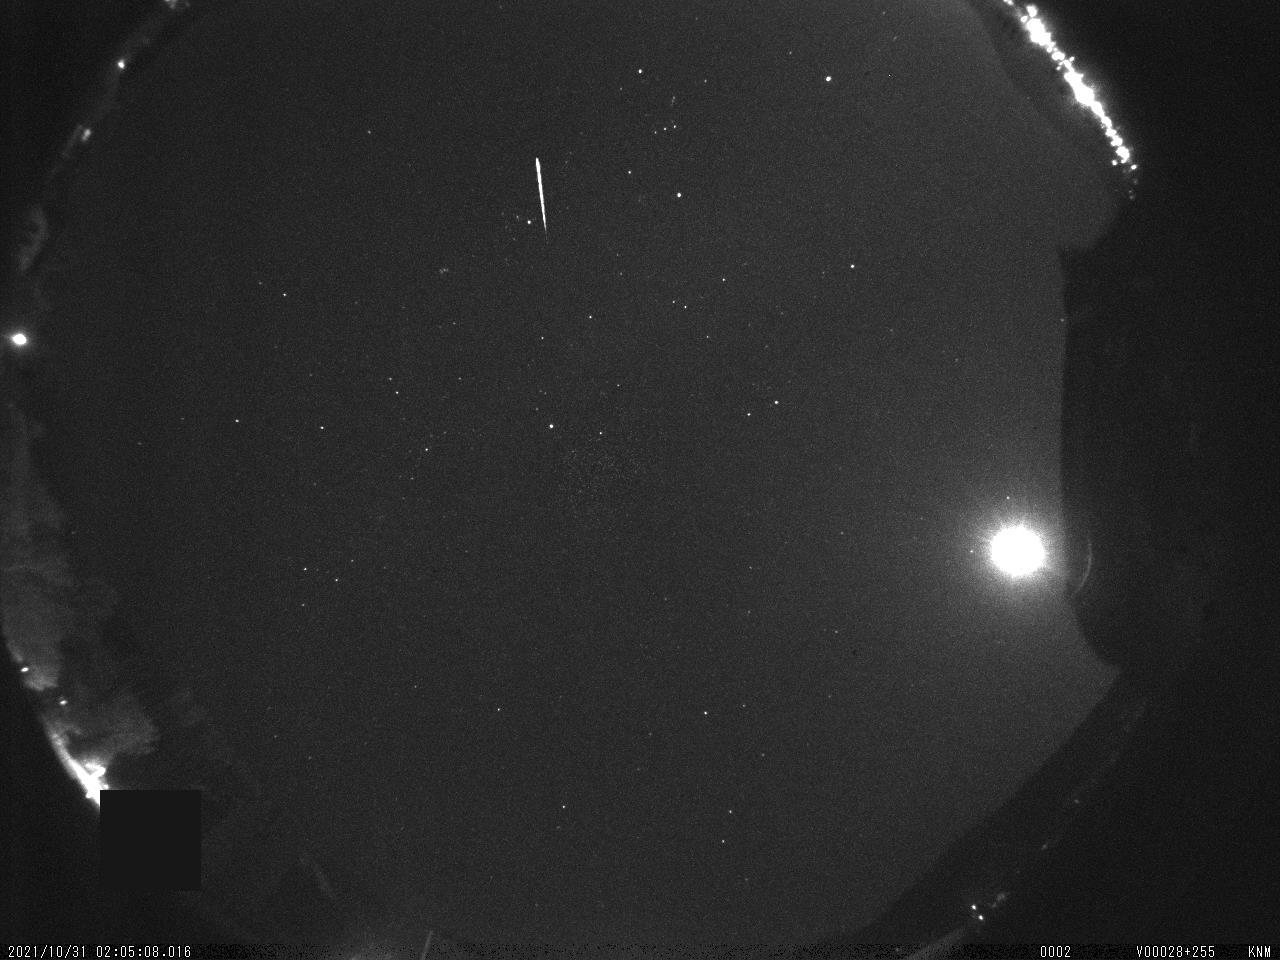meteor: (520, 143, 576, 256)
